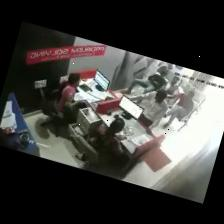person: (88, 117, 124, 165), (130, 90, 167, 135), (53, 73, 79, 136), (163, 91, 193, 128), (125, 67, 166, 94), (166, 77, 178, 95)
